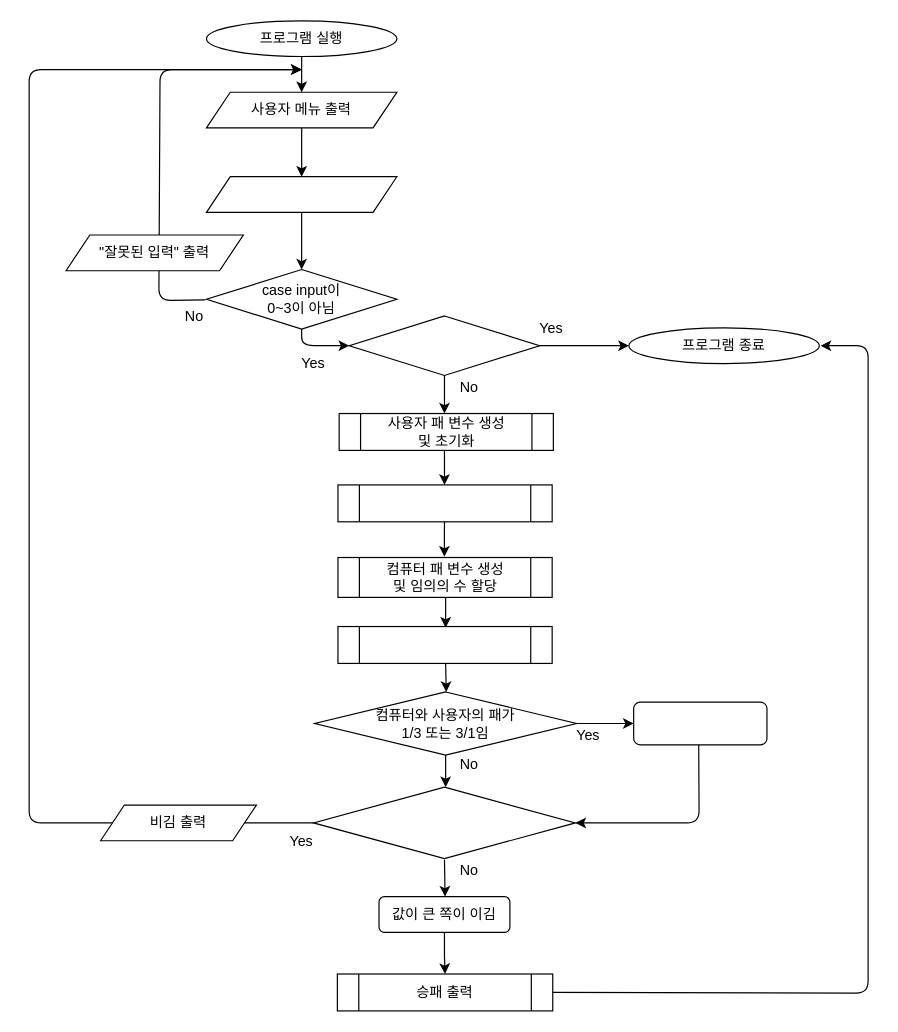
Image size: 898x1032. Some labels were removed from this diagram. Here are the shapes that lost their labels. From the top down, the box of each, then its label:
(205, 176, 397, 212): 사용자 입력받기 (input)
(348, 315, 540, 375): case input = 0
(337, 484, 552, 522): 게임 시작
(337, 625, 552, 663): 사용자 패와 비교
(632, 701, 767, 745): 1을 4로 만듦
(312, 786, 575, 859): 컴퓨터와 사용자의 패가 같음
